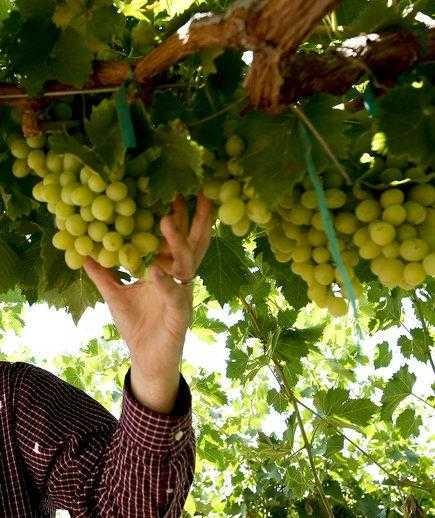Grape Unripe: (9, 110, 195, 289), (260, 168, 380, 324), (344, 176, 435, 298), (201, 121, 289, 225)
